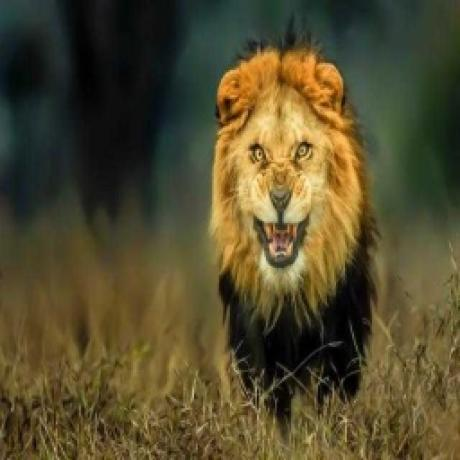Lion: (202, 19, 386, 411)
